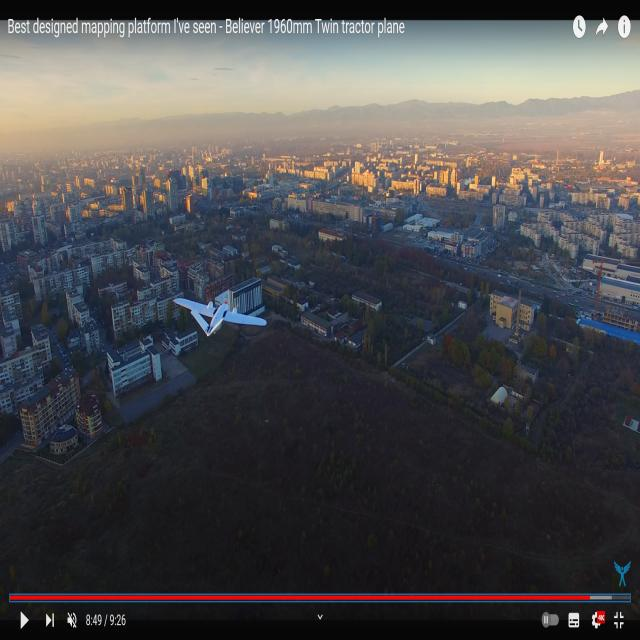iha: (208, 295, 233, 336)
